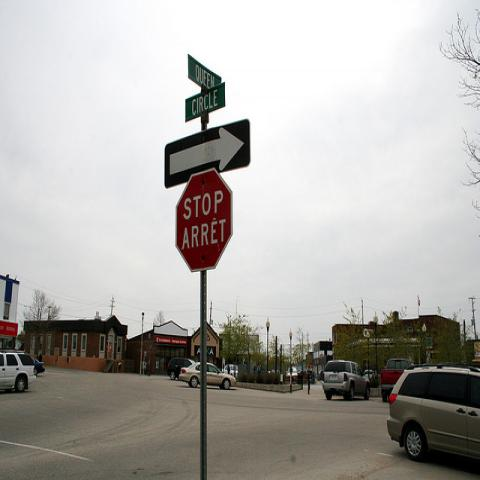car: (384, 366, 480, 464), (322, 360, 371, 402), (178, 362, 237, 390), (0, 353, 37, 395), (167, 357, 196, 380), (30, 356, 46, 376), (222, 363, 238, 378), (286, 367, 298, 384), (364, 370, 374, 378)
truck: (381, 359, 411, 402)
